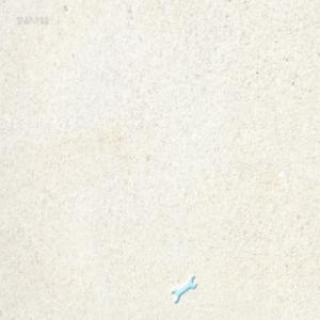Wrenchtrack_idkeyframe: (171, 270, 197, 298)
